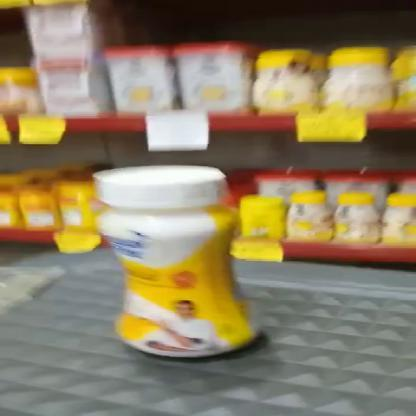SUGAR FREE GOLD POWDER 100GM: (93, 163, 266, 359)
